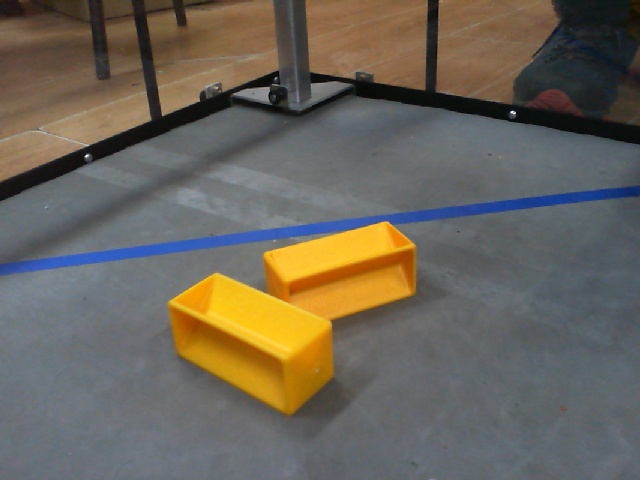YellowSample: (165, 268, 337, 420), (262, 218, 423, 338)
